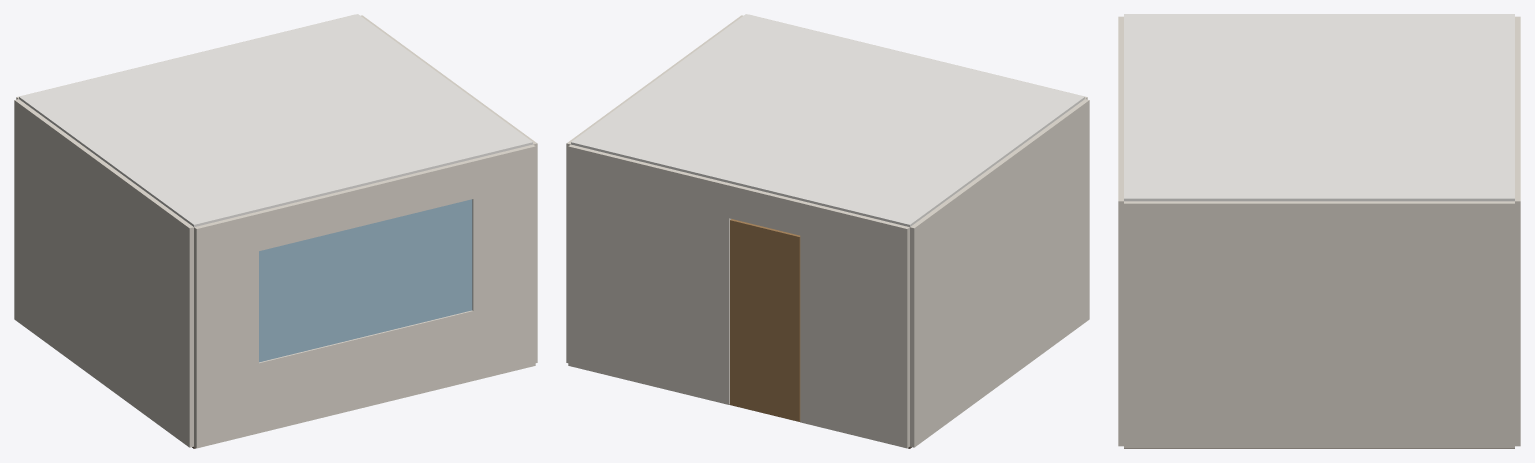
File: cabin_standard.glb
The picture shows the model from 3 angles, left to right: view 1: azimuth 30°, elevation 25°; view 2: azimuth 150°, elevation 25°; view 3: azimuth 270°, elevation 25°; orthographic projection. The views are drawn at different scales.
Visible parts, largest first — view 1: cabin_standard (×3); view 2: cabin_standard (×3); view 3: cabin_standard (×2).
Part boxes in pixels (left/top/right/bottom): cabin_standard (×3): left=14, top=14, right=537, bottom=448; cabin_standard (×3): left=566, top=14, right=1089, bottom=448; cabin_standard (×2): left=1118, top=14, right=1520, bottom=448.
Bounding box in the file's own units: 3.9 × 2.4 × 3.5.
